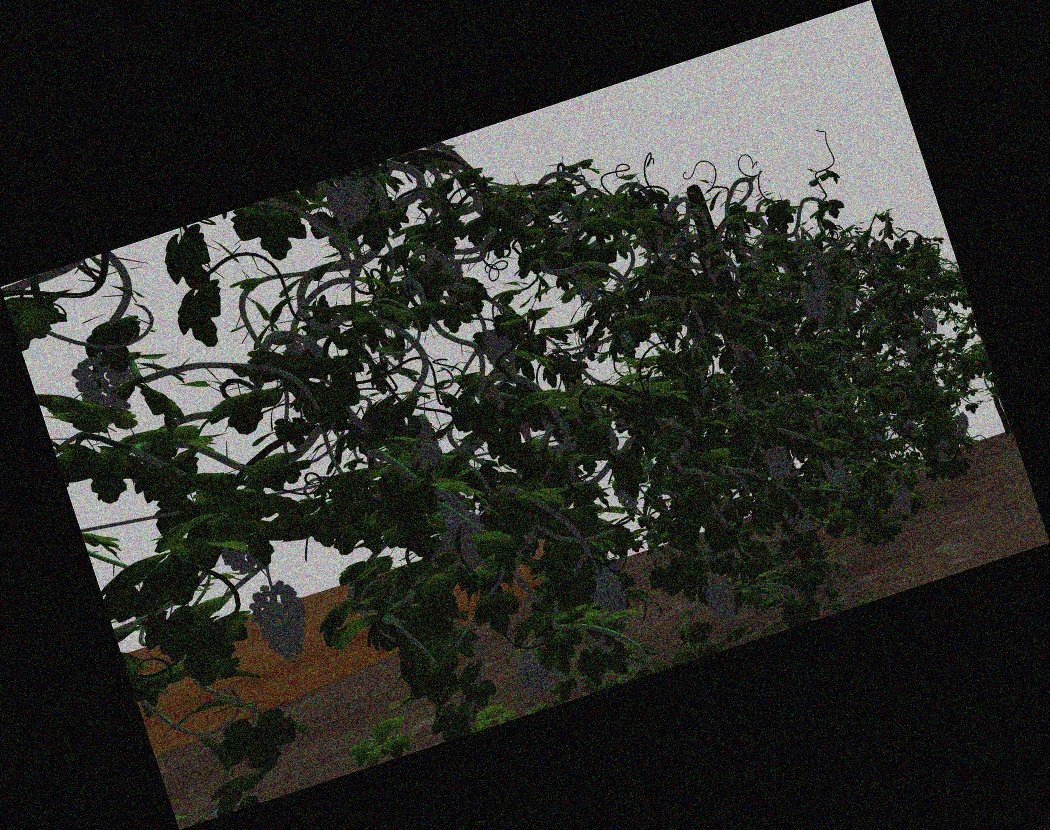grape: (254, 584, 307, 662), (75, 357, 126, 412), (443, 512, 488, 571), (324, 186, 370, 229), (591, 567, 626, 617), (522, 651, 555, 701), (408, 416, 439, 469), (708, 582, 741, 630), (485, 327, 515, 374), (824, 456, 849, 495), (767, 447, 792, 482), (805, 292, 828, 325), (892, 482, 914, 516), (442, 254, 462, 281), (814, 266, 831, 297), (903, 336, 920, 362), (872, 433, 887, 459), (923, 309, 939, 333), (783, 505, 799, 527), (955, 412, 970, 433), (794, 519, 814, 534), (936, 441, 949, 463), (843, 291, 857, 310)
